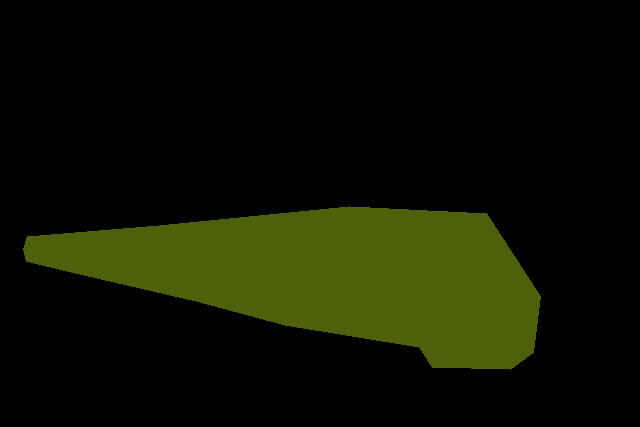Train: (23, 206, 541, 370)
